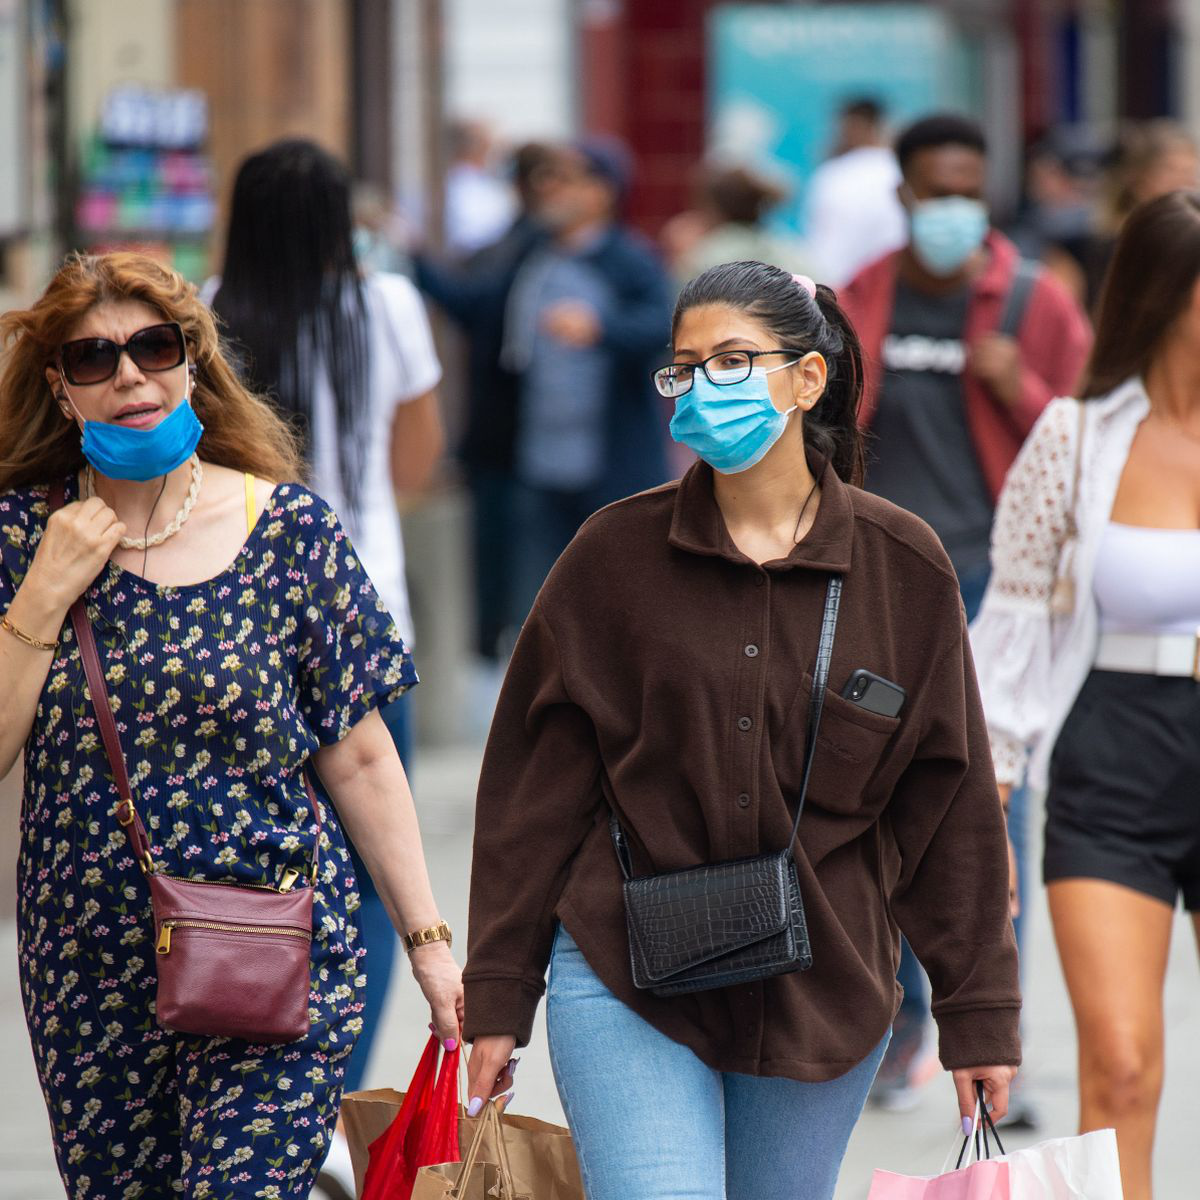mask_weared_incorrect: (37, 296, 211, 482)
with_mask: (653, 317, 829, 485)
